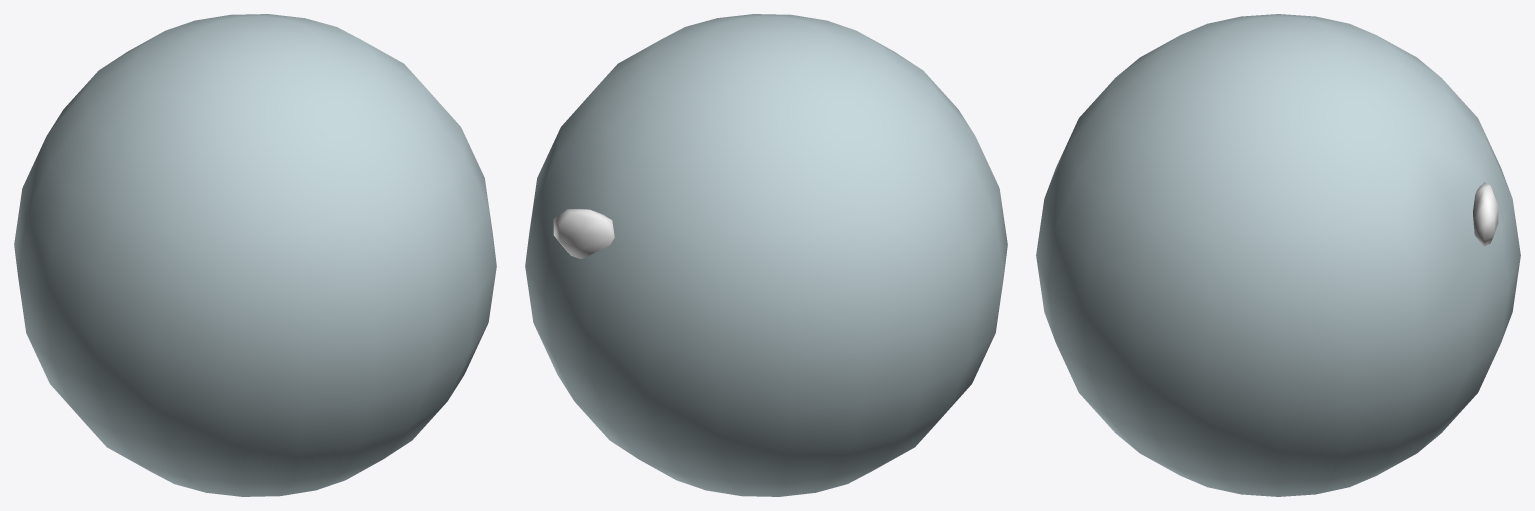
File: BallSmallIce.fbx
3 renders of one model, left to right at view 1: azimuth 30°, elevation 25°; view 2: azimuth 150°, elevation 25°; view 3: azimuth 270°, elevation 25°, orthographic.
Parts seen in each view (by area): view 1: BallSmallIce; view 2: BallSmallIce; view 3: BallSmallIce.
Part boxes in pixels (bbox=[...]): BallSmallIce: bbox=[14, 14, 496, 496]; BallSmallIce: bbox=[525, 14, 1007, 496]; BallSmallIce: bbox=[1036, 14, 1520, 496].
Bounding box in the file's own units: 1.3 × 1.3 × 1.3.
